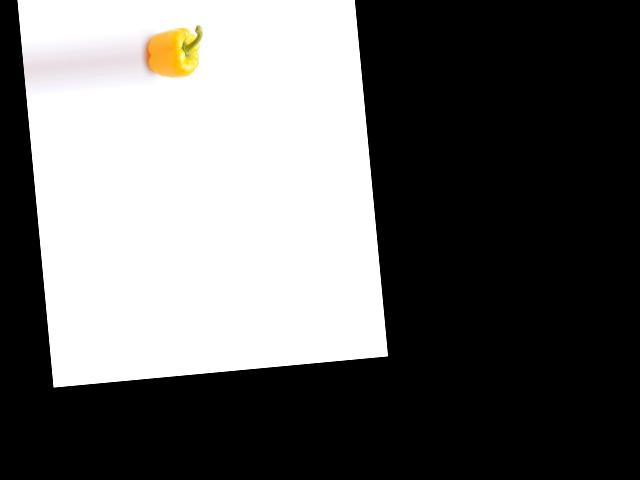bell_pepper: (143, 23, 204, 84)
